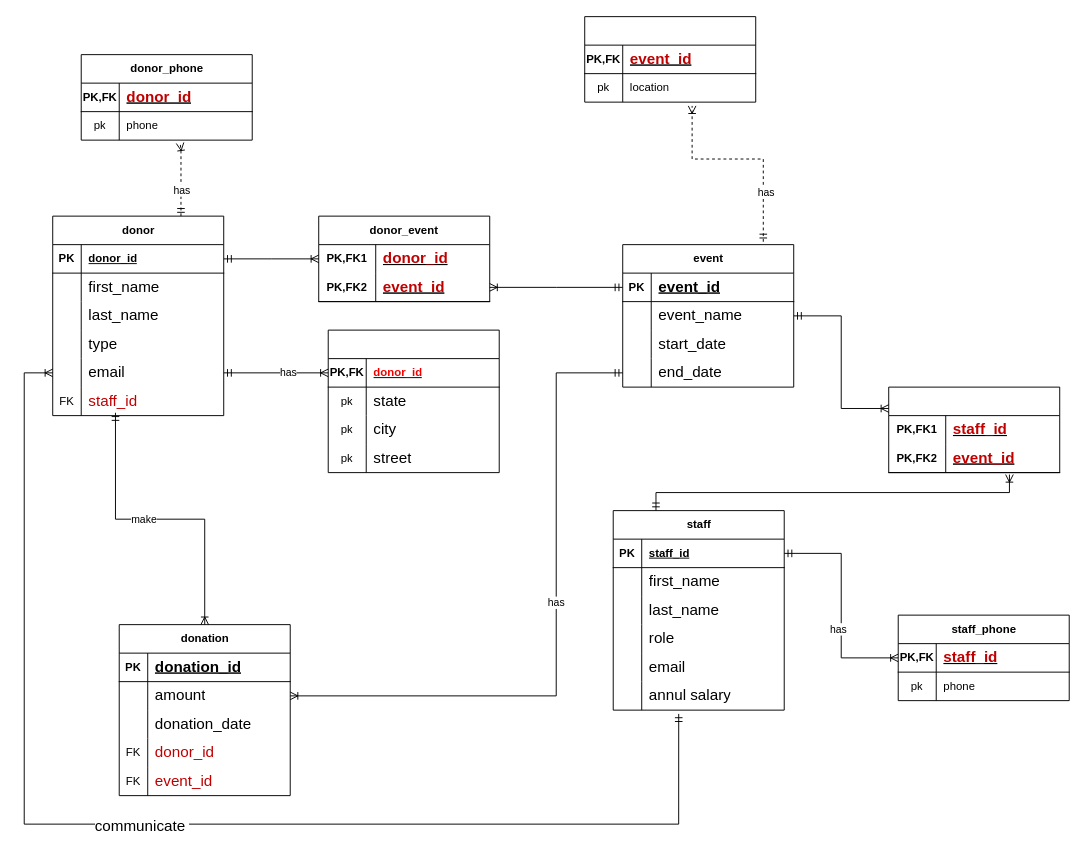
Image size: 1086x851. Some labels were removed from this diagram. Each missing label, with the box of its shape:
donor_address: (327, 329, 499, 473)
event_location: (584, 16, 756, 102)
staff_event: (888, 386, 1060, 473)
